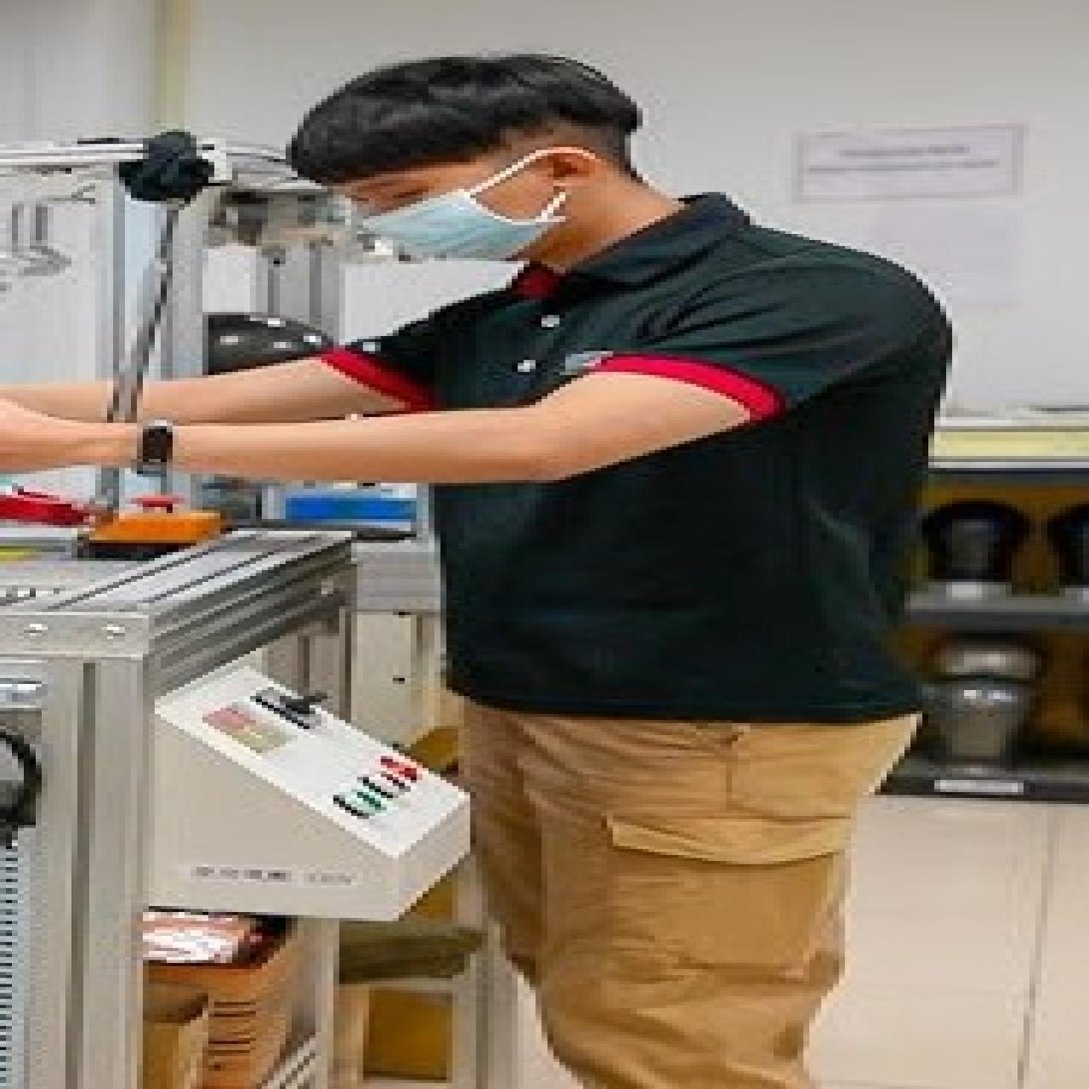NO_Safety_Vest: (409, 250, 933, 731)
Person: (45, 17, 987, 1054)
